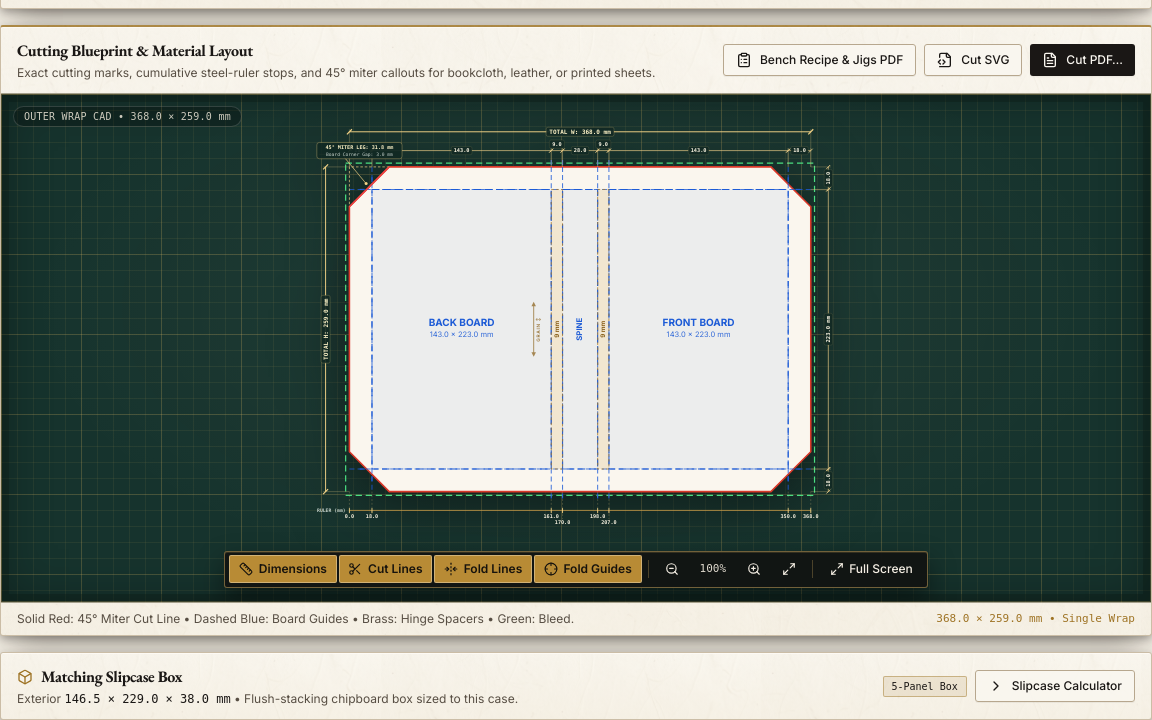
Test: MeasureAndCutPanel › expands the cutting-mat canvas to full page and exits via Escape or Exit Full Screen pill
(page scrolled)
Click the button with test id "measure-fullscreen-btn": (871, 570) [820,556,922,584]
(page scrolled)
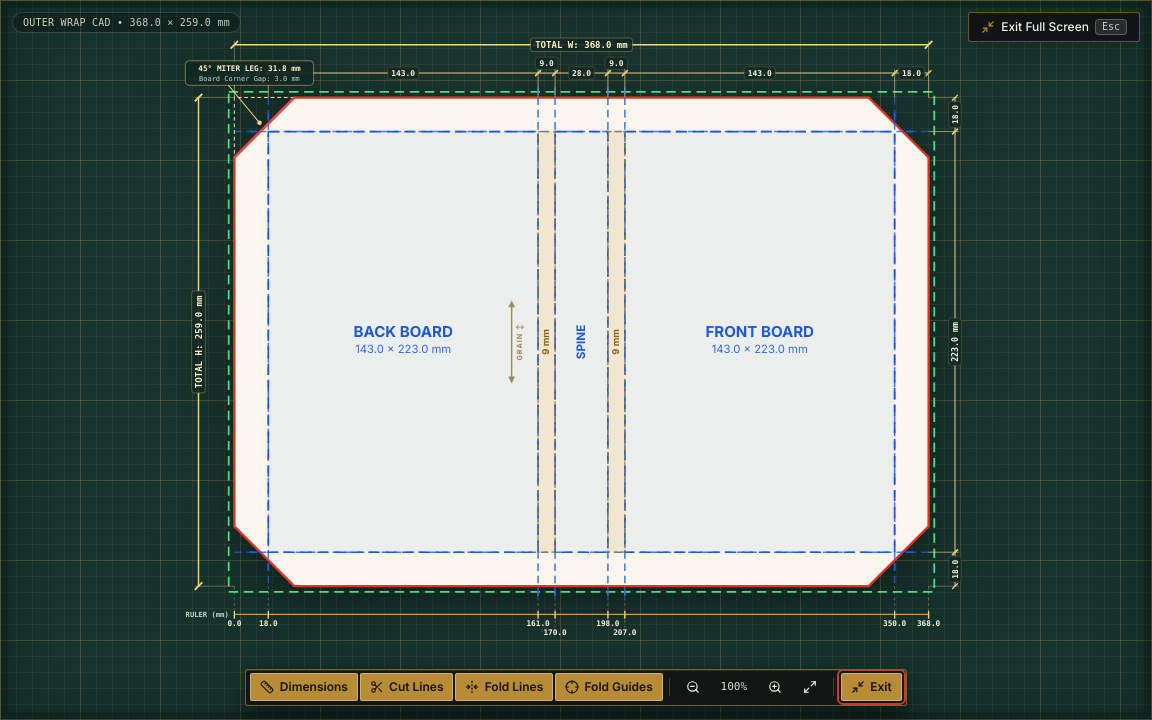
Now the button with test id "measure-exit-fullscreen-btn" is shown, box [968,12,1140,42]
Press Escape
(page scrolled)
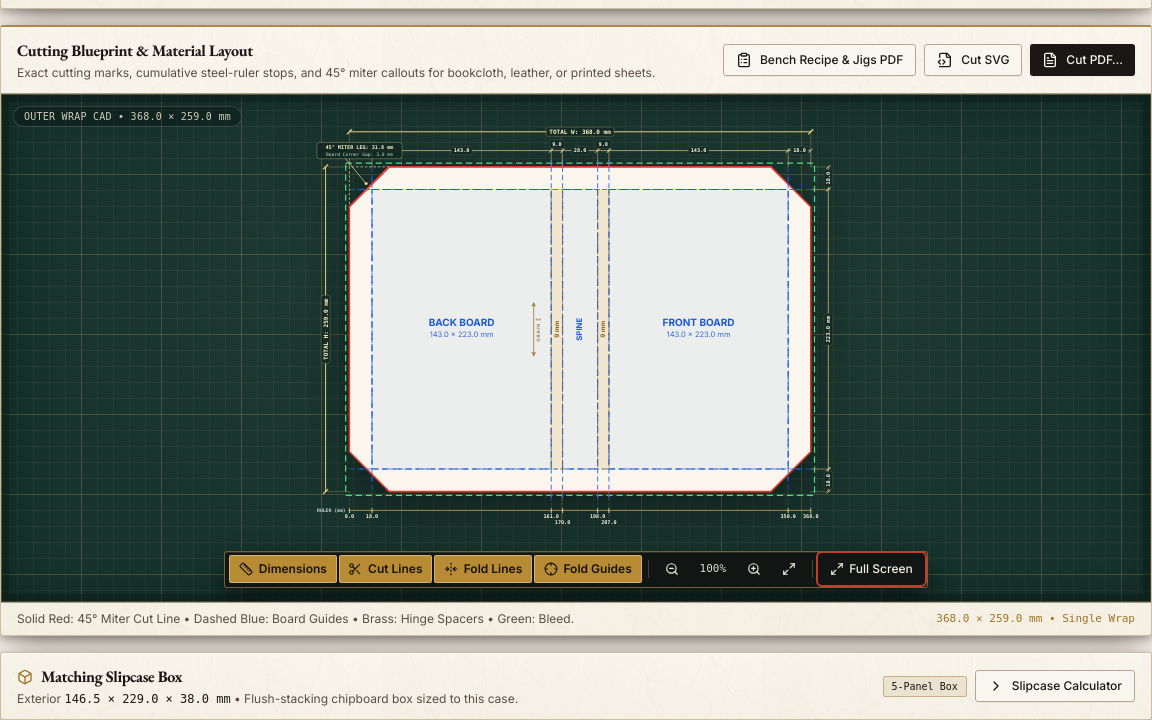
Now the button with test id "measure-exit-fullscreen-btn" is gone
Click the button with test id "measure-fullscreen-btn": (871, 570) [820,556,922,584]
(page scrolled)
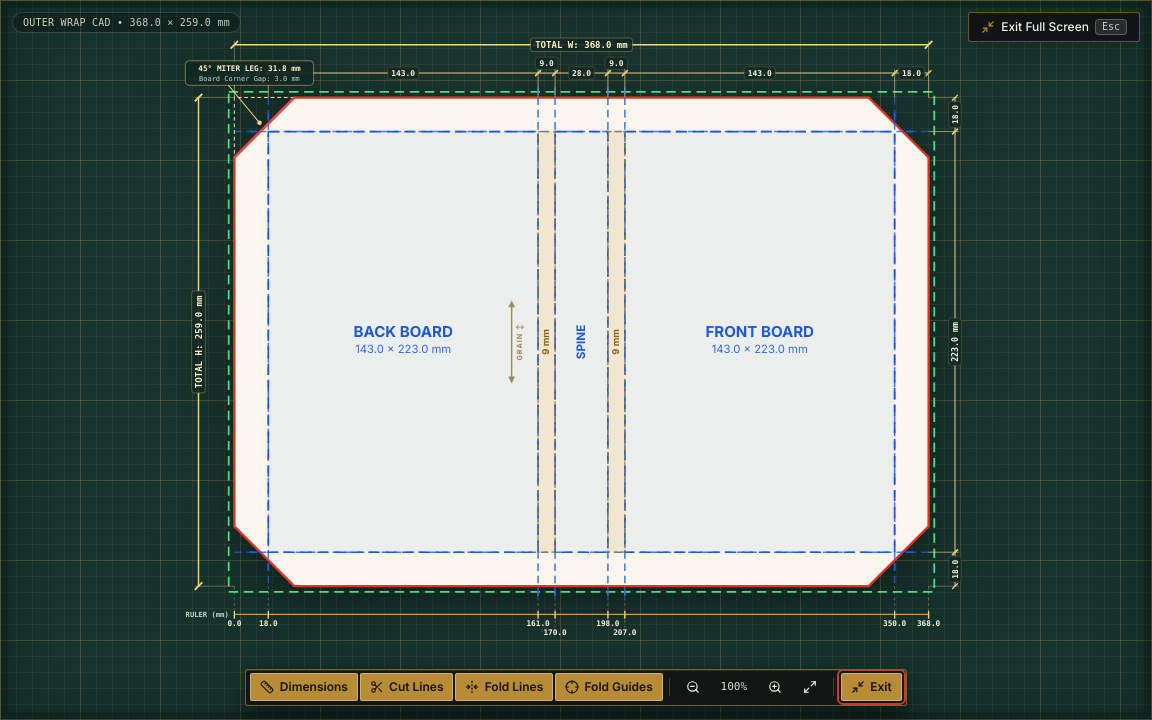
Now the element with test id "measure-canvas-stage" has attribute data-expanded="true"
Click the button with test id "measure-exit-fullscreen-btn": (1054, 27) [968,12,1140,42]
(page scrolled)
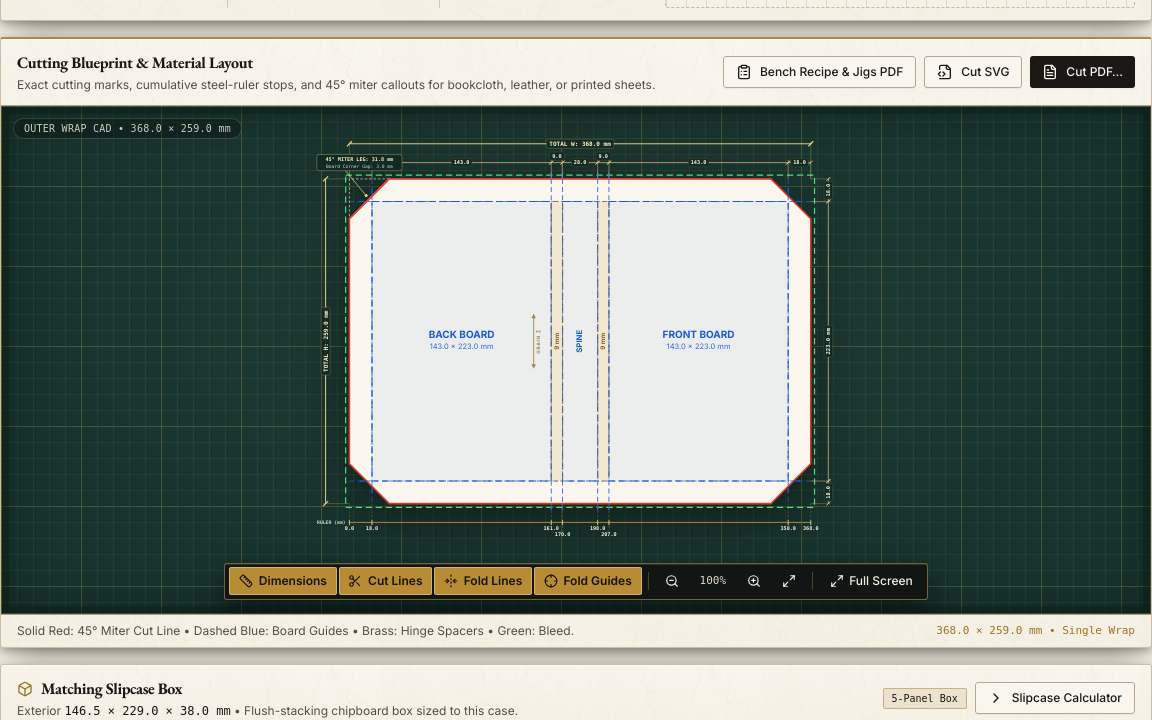
Now the element with test id "measure-canvas-stage" has attribute data-expanded="false"
